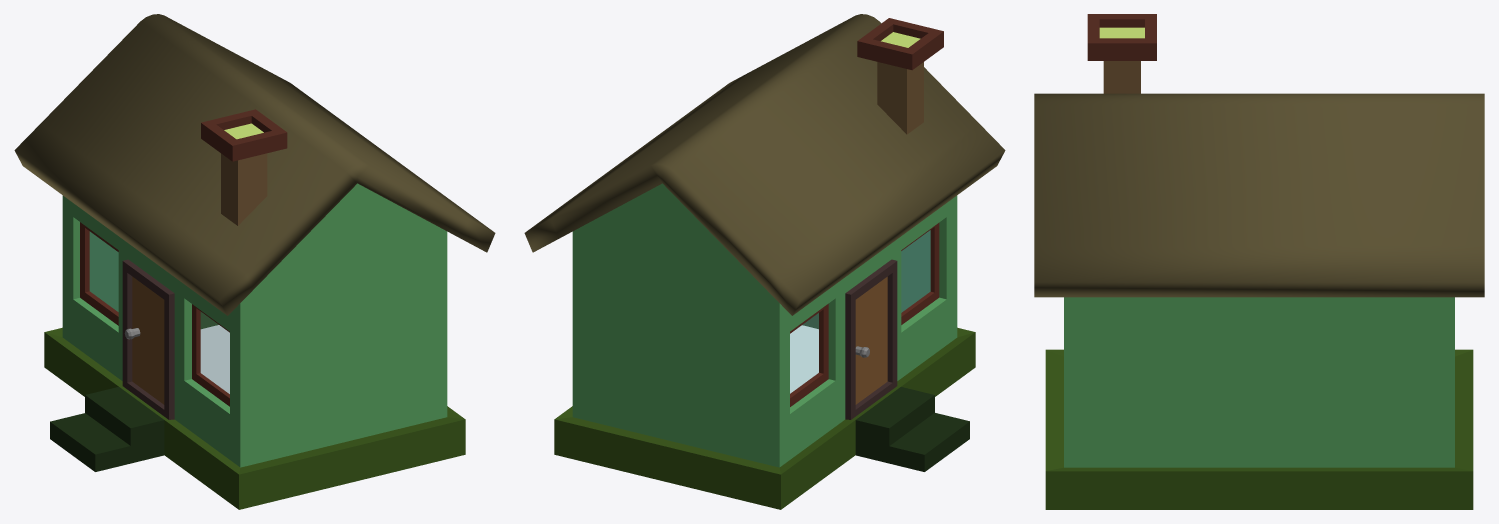
Rendered from goal_house.glb.
The picture shows the model from 3 angles, left to right: view 1: azimuth 30°, elevation 25°; view 2: azimuth 150°, elevation 25°; view 3: azimuth 270°, elevation 25°; orthographic projection. The views are drawn at different scales.
Parts seen in each view (by area): view 1: Cube, Roof, Door, Chimney; view 2: Cube, Roof, Door, Chimney; view 3: Roof, Cube, Chimney.
Part boxes in pixels (x1,y1,x2,y2): Cube: (44,183,465,509); Roof: (14,14,495,315); Door: (122,259,174,419); Chimney: (201,109,287,225); Cube: (554,183,975,509); Roof: (524,14,1005,315); Door: (845,259,897,419); Chimney: (857,18,943,134); Roof: (1034,93,1484,297); Cube: (1045,297,1473,509); Chimney: (1087,14,1156,93).
Bounding box in the file's own units: 7.08 × 7.33 × 7.85.
